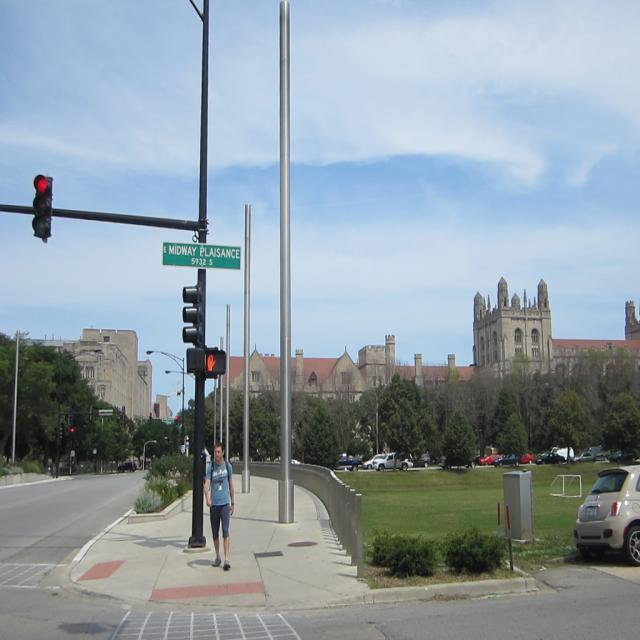off traffic light: (182, 284, 202, 345)
traffic light: (32, 174, 54, 239), (206, 349, 226, 375)
